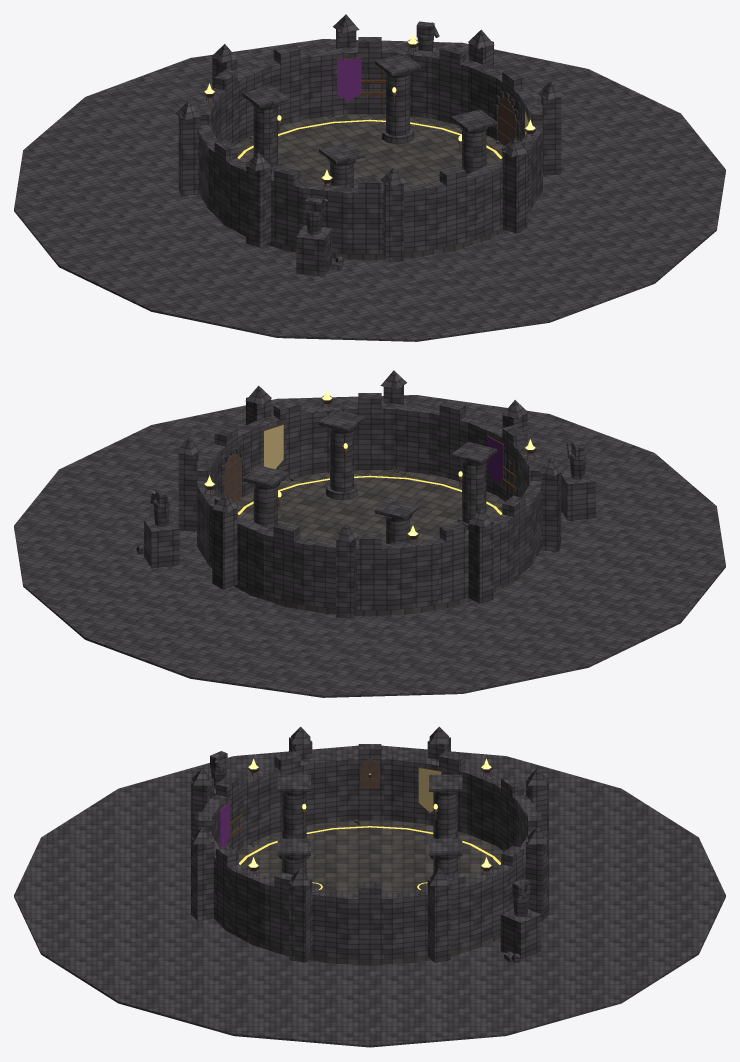
The model's file is stone_arena_lod1.glb.
3 views of the same model, one above another, from view 1: azimuth 30°, elevation 25°; view 2: azimuth 150°, elevation 25°; view 3: azimuth 270°, elevation 25° (orthographic).
Parts seen in each view (by area): view 1: Arena_Structure, Arena_Props; view 2: Arena_Structure, Arena_Props; view 3: Arena_Structure, Arena_Props.
Boxes of the visible parts, box(x1,y1,x2,y2) form: Arena_Structure: box(14, 14, 725, 341); Arena_Props: box(203, 21, 536, 276); Arena_Structure: box(14, 370, 725, 697); Arena_Props: box(136, 390, 595, 568); Arena_Structure: box(14, 726, 725, 1047); Arena_Props: box(210, 751, 541, 962).
Size of the model in its own units: 32 by 4.95 by 32.
Materials: 8 (4 with a texture image).
